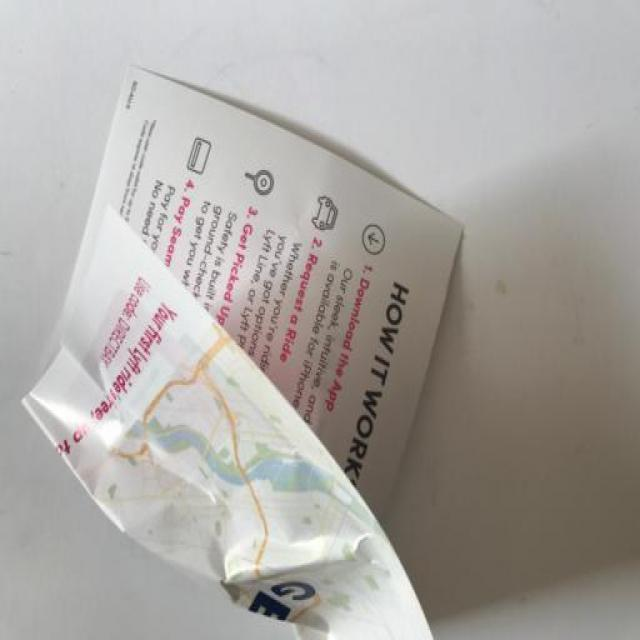paper: (1, 52, 490, 640)
